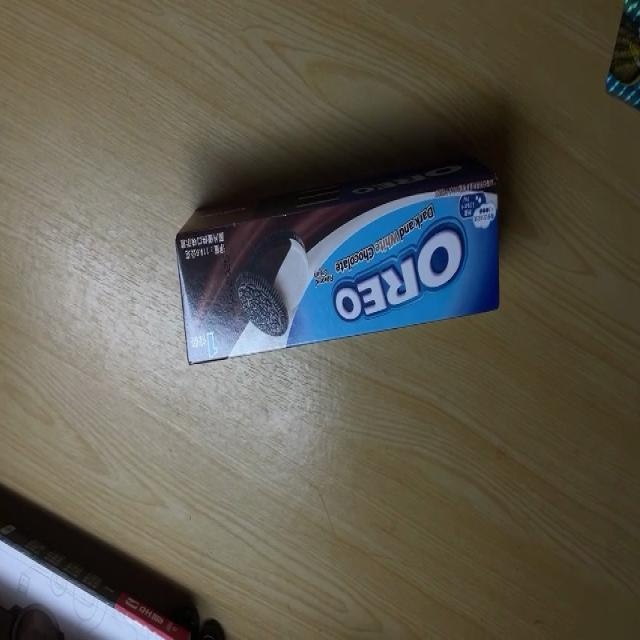Oreo: (173, 134, 500, 369)
